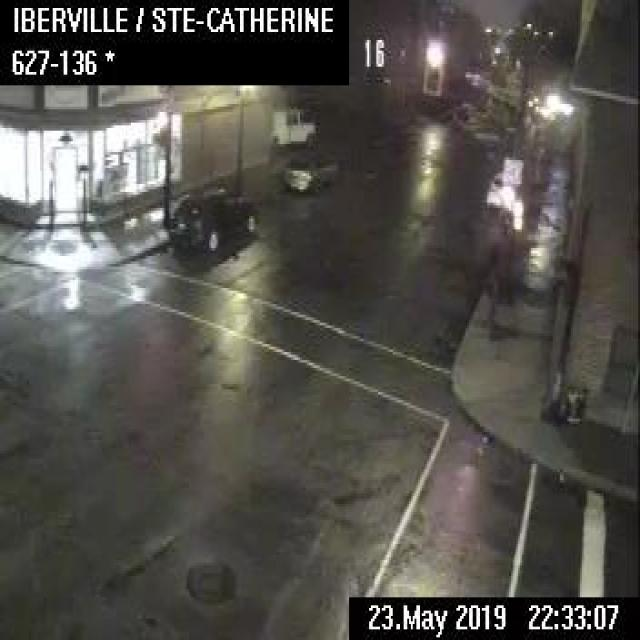vehicle: (165, 179, 258, 253), (282, 144, 336, 190), (271, 102, 317, 152), (484, 168, 500, 205)
